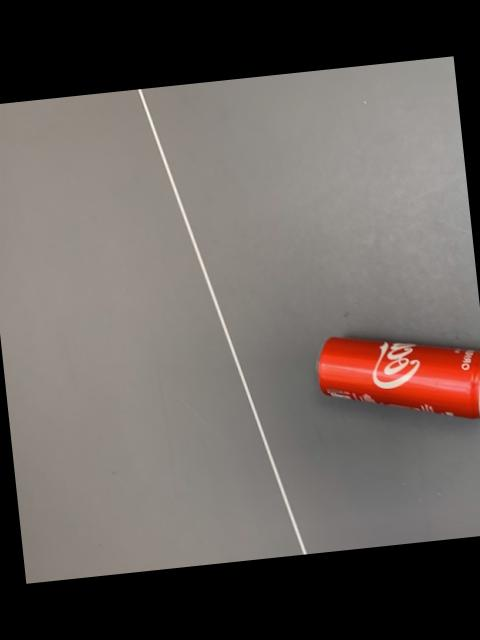metal: (316, 337, 480, 417)
